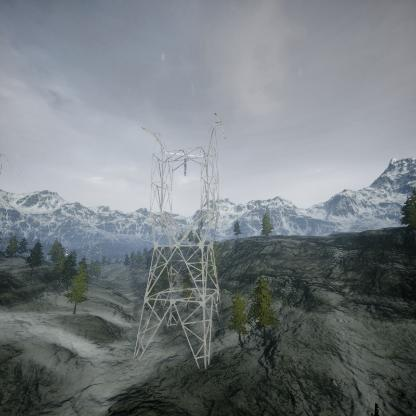tower: (136, 112, 230, 362)
